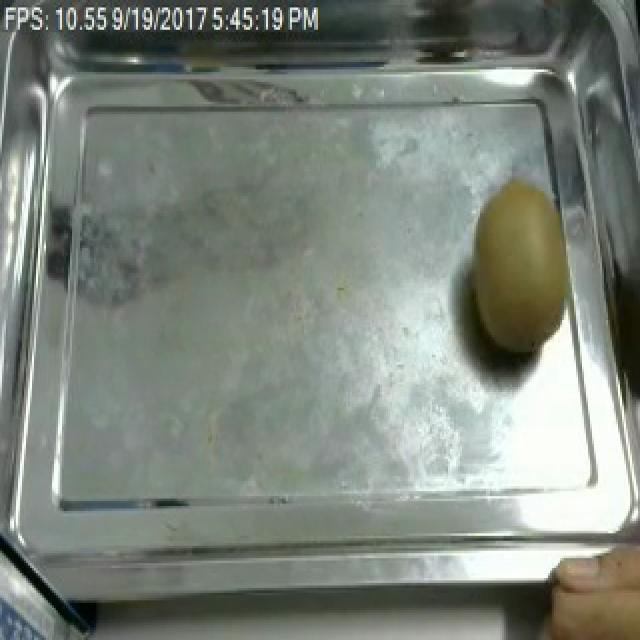Fruit: (456, 171, 586, 370), (528, 528, 640, 640)
